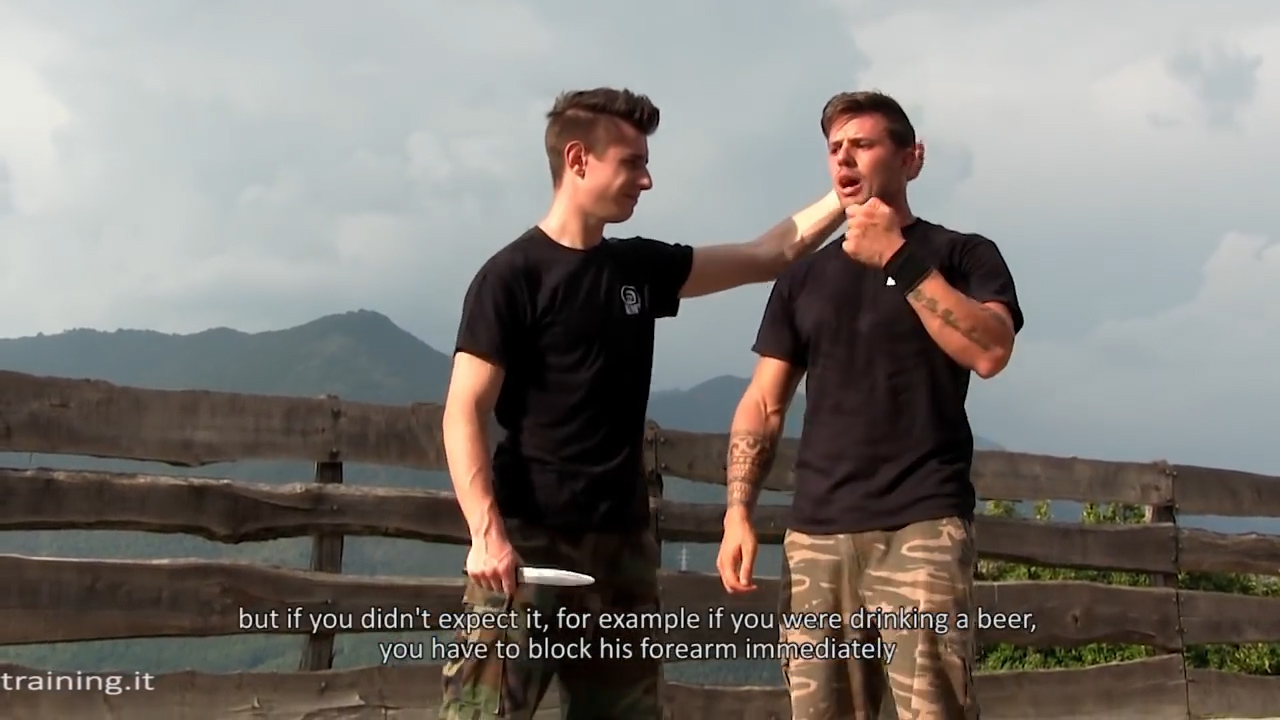knife: (458, 548, 612, 604)
